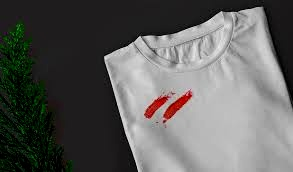lipstick: (142, 90, 167, 119), (160, 95, 189, 119), (175, 90, 194, 102)
